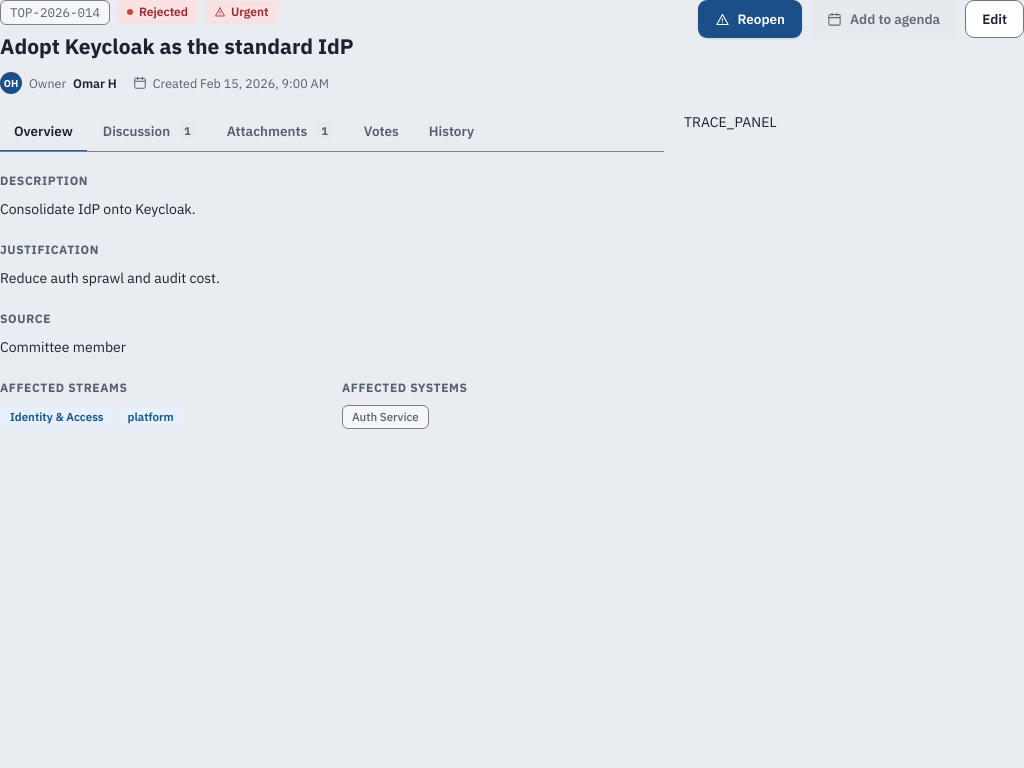
TopicDetail (P5b) › cancels the Rejected lifecycle dialog without committing
Click the button "Reopen": (750, 19) [698,0,802,38]
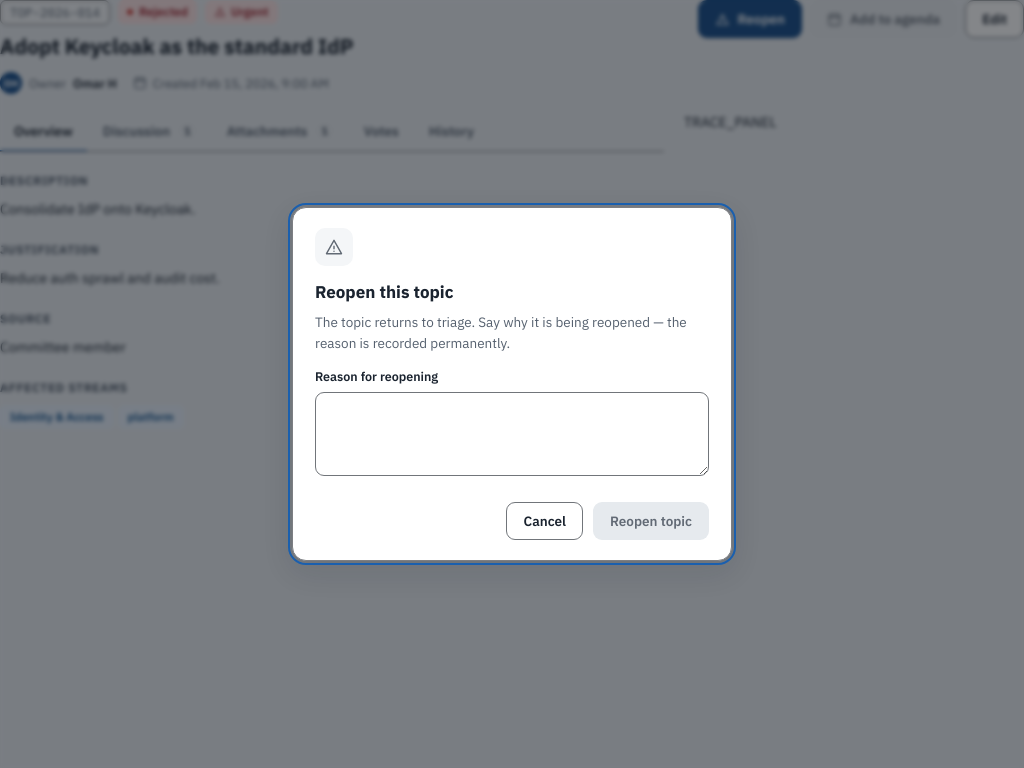
Check: the button "Reopen topic" is shown, box [593,502,709,540]
Click the button "Cancel": (545, 521) [506,502,583,540]
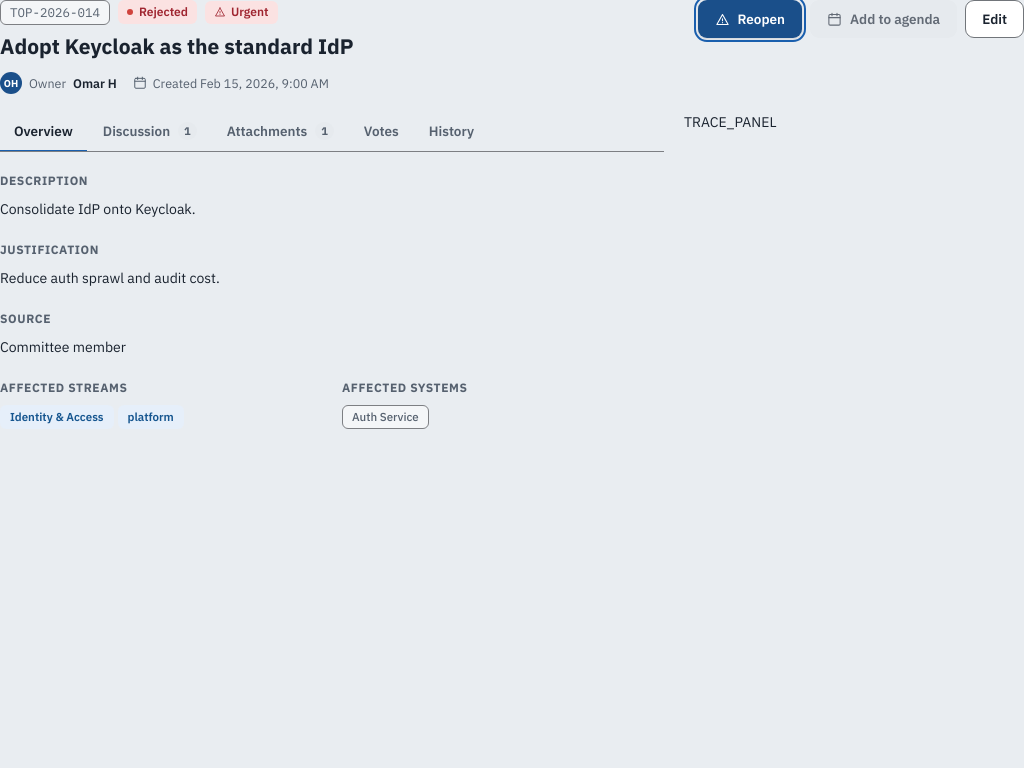
Check: the button "Reopen topic" is gone
